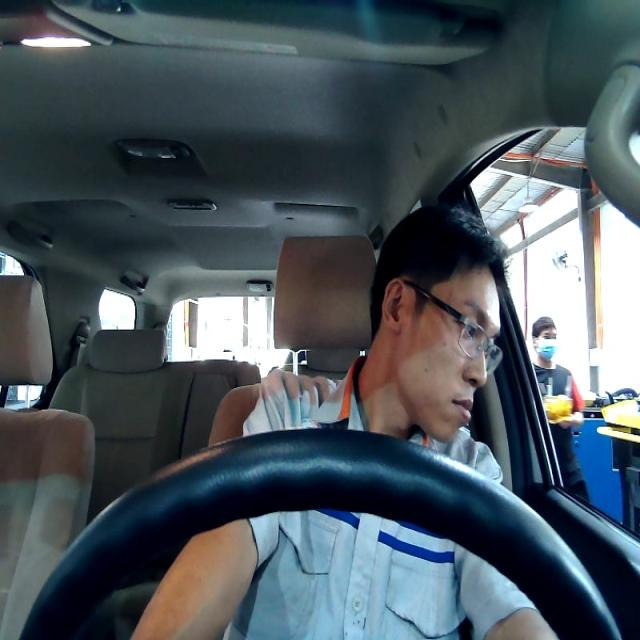focused: (380, 264, 501, 442)
